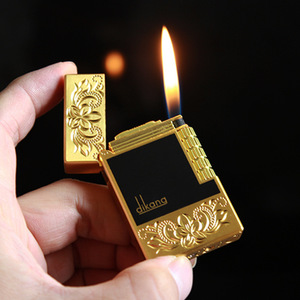Fire: (156, 25, 185, 117)
